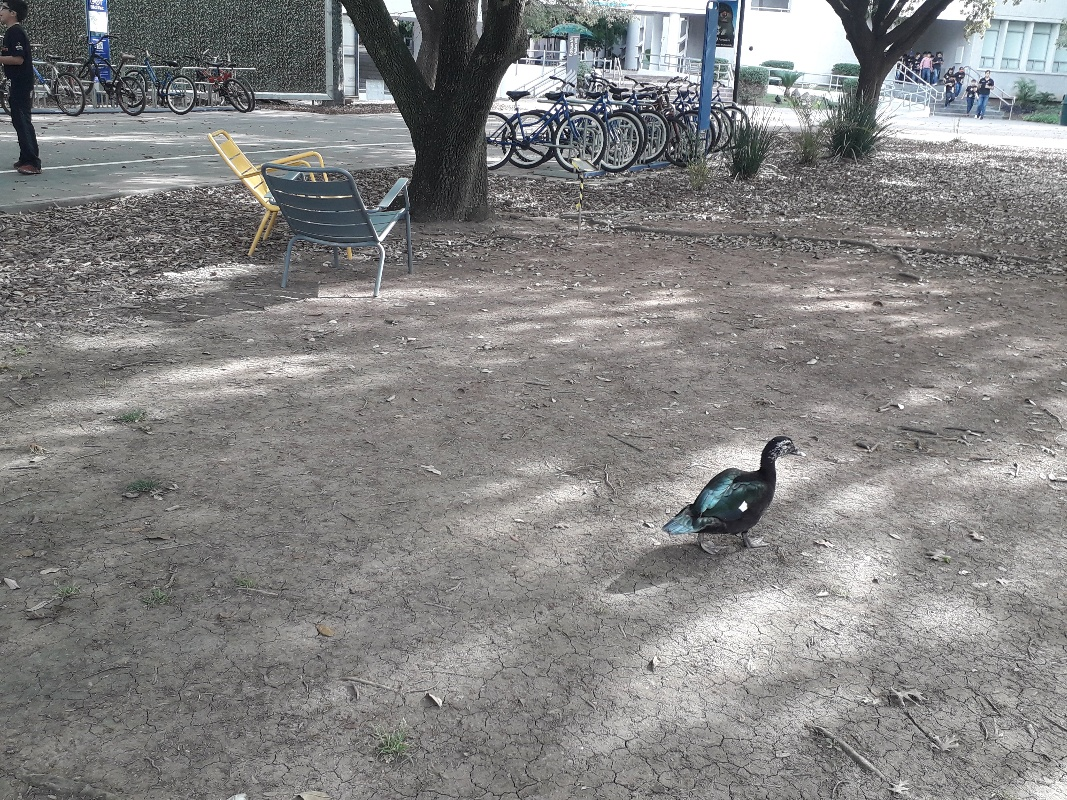pato: (657, 435, 802, 566)
